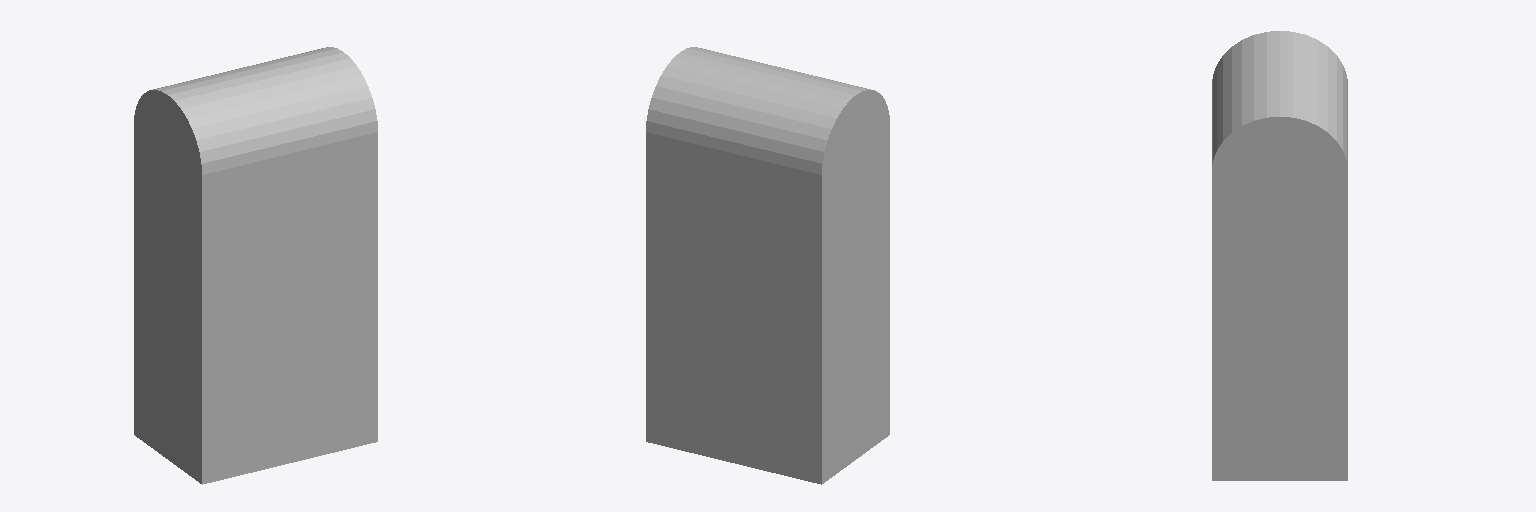
File: body_r_dist_pinvround2_collision.obj
The picture shows the model from 3 angles: view 1: azimuth 30°, elevation 25°; view 2: azimuth 150°, elevation 25°; view 3: azimuth 270°, elevation 25°; orthographic projection.
Parts seen in each view (by area): view 1: body_r_dist_pinvround2_collision_Cube.103; view 2: body_r_dist_pinvround2_collision_Cube.103; view 3: body_r_dist_pinvround2_collision_Cube.103.
Boxes of the visible parts, x1,y1,x2,y2 form: body_r_dist_pinvround2_collision_Cube.103: [134, 47, 377, 484]; body_r_dist_pinvround2_collision_Cube.103: [646, 47, 889, 484]; body_r_dist_pinvround2_collision_Cube.103: [1212, 31, 1347, 480].
Size of the model in its own units: 0.032 by 0.0633 by 0.0215.